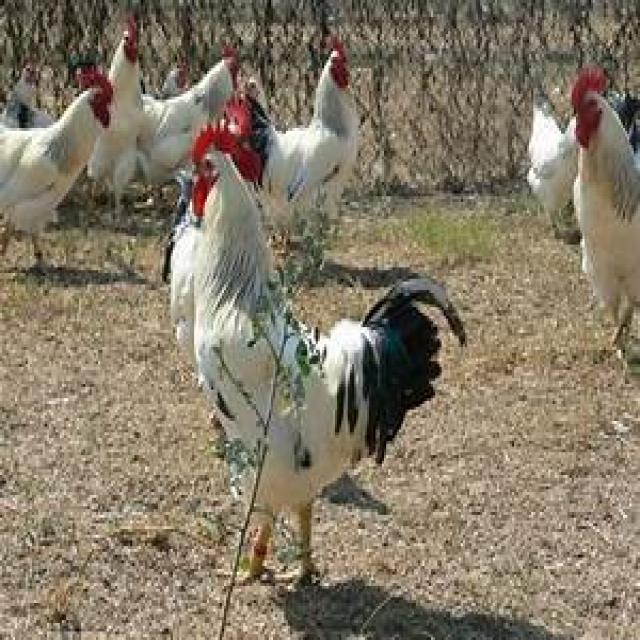hen: (194, 152, 464, 578), (0, 72, 112, 264), (571, 67, 640, 366), (262, 42, 359, 228), (88, 17, 140, 219)
